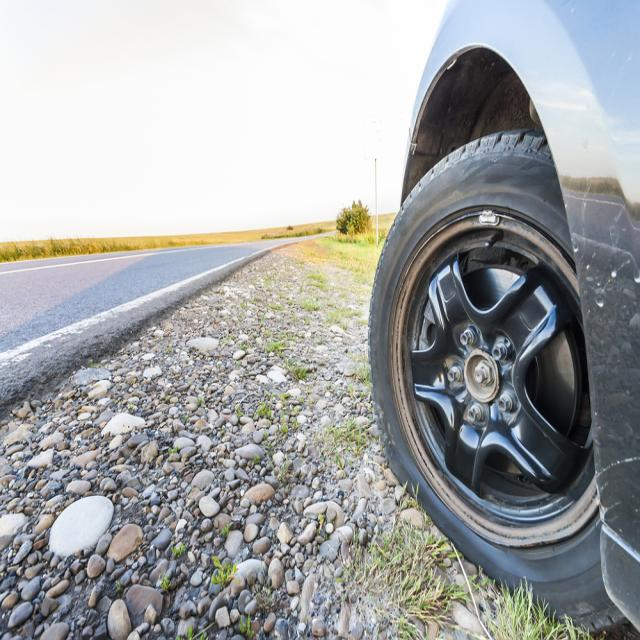tire flat: (369, 128, 626, 638)
